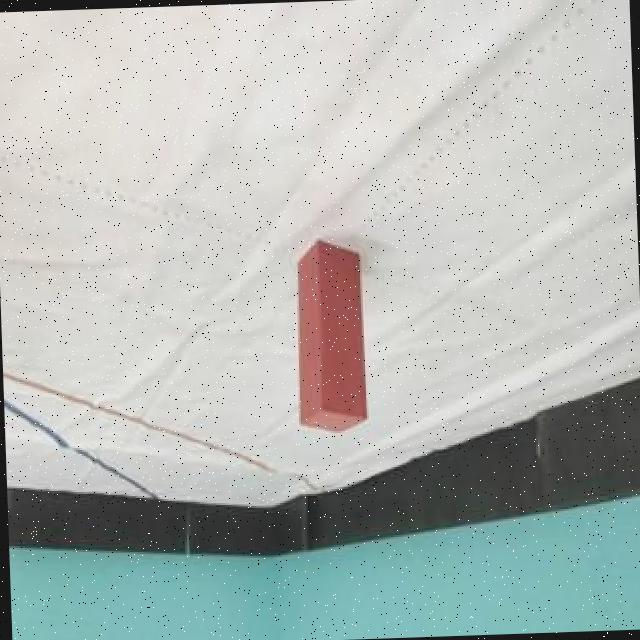redbox: (291, 238, 370, 436)
